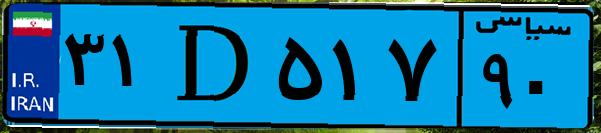0: (525, 38, 570, 115)
1: (330, 28, 385, 110), (110, 28, 158, 98)
3: (57, 26, 110, 100)
5: (270, 28, 330, 110)
7: (385, 28, 445, 110)
9: (475, 38, 525, 113)
D: (158, 12, 270, 120)
